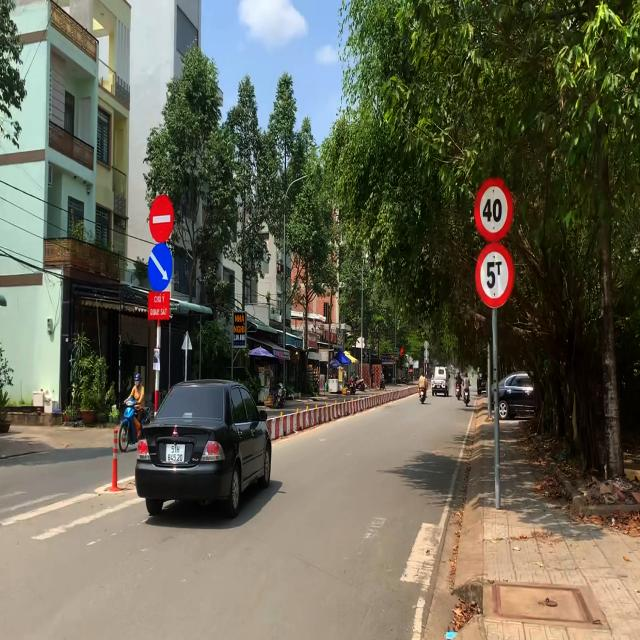Cam nguoc chieu: (148, 193, 176, 243)
Hieu lenh: (146, 240, 174, 294)
Toc do toi da: (475, 178, 513, 242)
Trong tai toi da: (474, 243, 516, 309)
